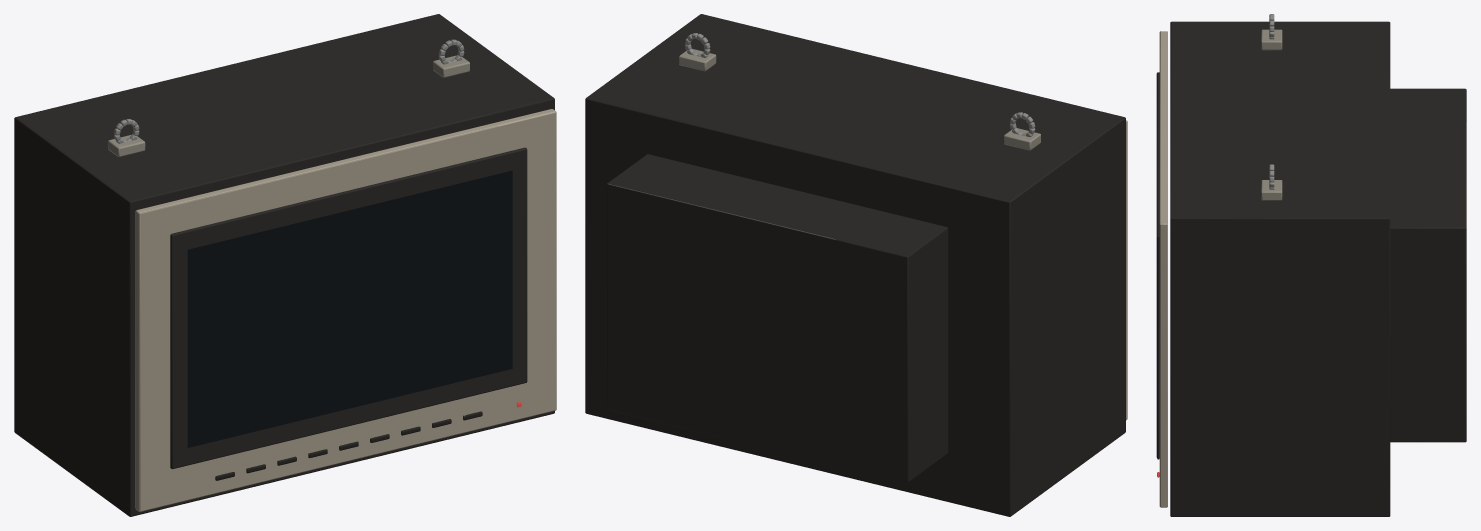
The model's file is SM_L_TV_Wide.gltf.
3 renders of one model, left to right at view 1: azimuth 30°, elevation 25°; view 2: azimuth 150°, elevation 25°; view 3: azimuth 270°, elevation 25°, orthographic. The views are drawn at different scales.
Parts seen in each view (by area): view 1: SM_L_TV_Wide_LookDev02__Body, SM_L_TV_Wide_LookDev02__Screen; view 2: SM_L_TV_Wide_LookDev02__Body; view 3: SM_L_TV_Wide_LookDev02__Body.
Boxes of the visible parts, box(x1,y1,x2,y2) form: SM_L_TV_Wide_LookDev02__Body: box(14, 14, 556, 516); SM_L_TV_Wide_LookDev02__Screen: box(187, 170, 512, 447); SM_L_TV_Wide_LookDev02__Body: box(585, 14, 1127, 516); SM_L_TV_Wide_LookDev02__Body: box(1156, 14, 1466, 516).
Size of the model in its own units: 1.1 by 0.856 by 0.733.
7 materials, 6 textured.
